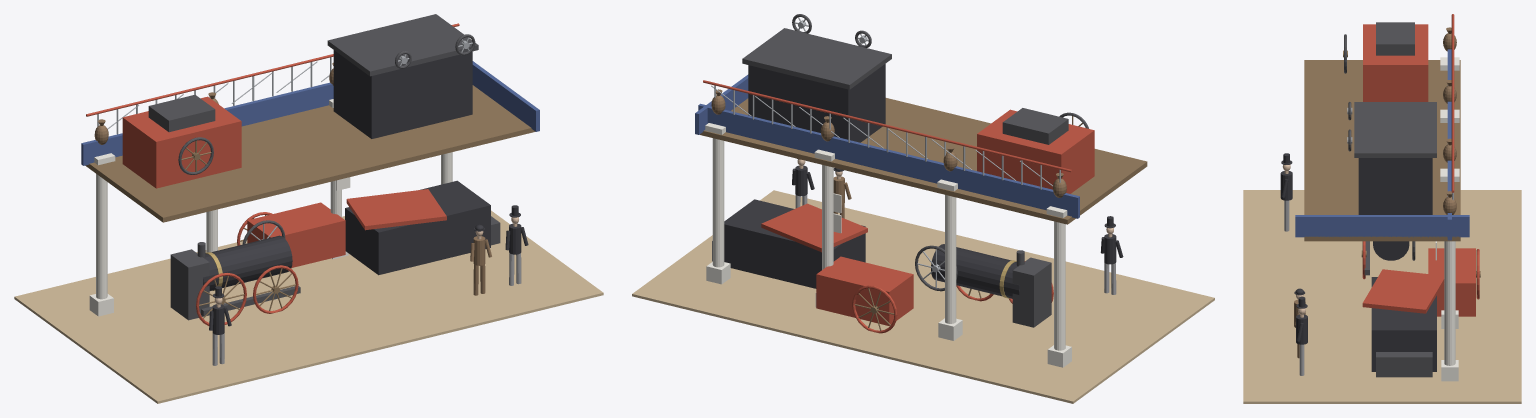
File: scan-fig48-garrett-agricultural-machinery-muse.glb
3 views of the same model, side by side, from view 1: azimuth 30°, elevation 25°; view 2: azimuth 150°, elevation 25°; view 3: azimuth 270°, elevation 25° (orthographic). The views are drawn at different scales.
Visible parts, largest first — view 1: Floor, GalleryFloor, GalleryThresher, DrillBody, GalleryRedMachine, GalleryThresherRoof, RedCart, FasciaFront, DrillSlope, Boiler, Firebox, GalleryRedHopper (+4 smaller); view 2: Floor, GalleryFloor, FasciaFront, GalleryThresher, DrillBody, GalleryRedMachine, GalleryThresherRoof, RedCart, Boiler, Firebox, DrillSlope, GalleryRedHopper (+6 smaller); view 3: Floor, GalleryFloor, GalleryThresherRoof, GalleryThresher, GalleryRedMachine, FasciaSide, DrillBody, DrillSlope, RedCart, Column_3, DrillTail, GalleryRedHopper (+6 smaller).
Part boxes in pixels (x1,y1,x2,y2): Floor: (14, 210, 603, 403); GalleryFloor: (85, 85, 535, 222); GalleryThresher: (333, 50, 472, 138); DrillBody: (345, 180, 490, 275); GalleryRedMachine: (122, 96, 241, 188); GalleryThresherRoof: (327, 14, 478, 76); RedCart: (247, 202, 345, 267); FasciaFront: (81, 82, 333, 165); DrillSlope: (346, 189, 446, 230); Boiler: (203, 235, 292, 290); Firebox: (170, 249, 209, 320); GalleryRedHopper: (148, 94, 215, 132); Floor: (632, 190, 1214, 403); GalleryFloor: (699, 98, 1147, 224); FasciaFront: (698, 103, 1079, 218); GalleryThresher: (748, 64, 885, 142); DrillBody: (724, 199, 865, 288); GalleryRedMachine: (977, 109, 1094, 193); GalleryThresherRoof: (742, 28, 891, 89); RedCart: (816, 256, 913, 325); Boiler: (931, 244, 1019, 298); Firebox: (1012, 257, 1051, 327); DrillSlope: (761, 203, 867, 252); GalleryRedHopper: (1002, 108, 1068, 144); Floor: (1243, 190, 1521, 403); GalleryFloor: (1304, 60, 1460, 241); GalleryThresherRoof: (1354, 102, 1436, 157); GalleryThresher: (1358, 158, 1432, 214); GalleryRedMachine: (1363, 24, 1428, 101); FasciaSide: (1295, 215, 1469, 237); DrillBody: (1371, 277, 1436, 371); DrillSlope: (1362, 269, 1444, 313); RedCart: (1428, 248, 1475, 316); Column_3: (1444, 241, 1455, 365); DrillTail: (1376, 352, 1432, 377); GalleryRedHopper: (1376, 22, 1414, 55).
Size of the model in its own units: 11.5 by 5.93 by 6.4.
